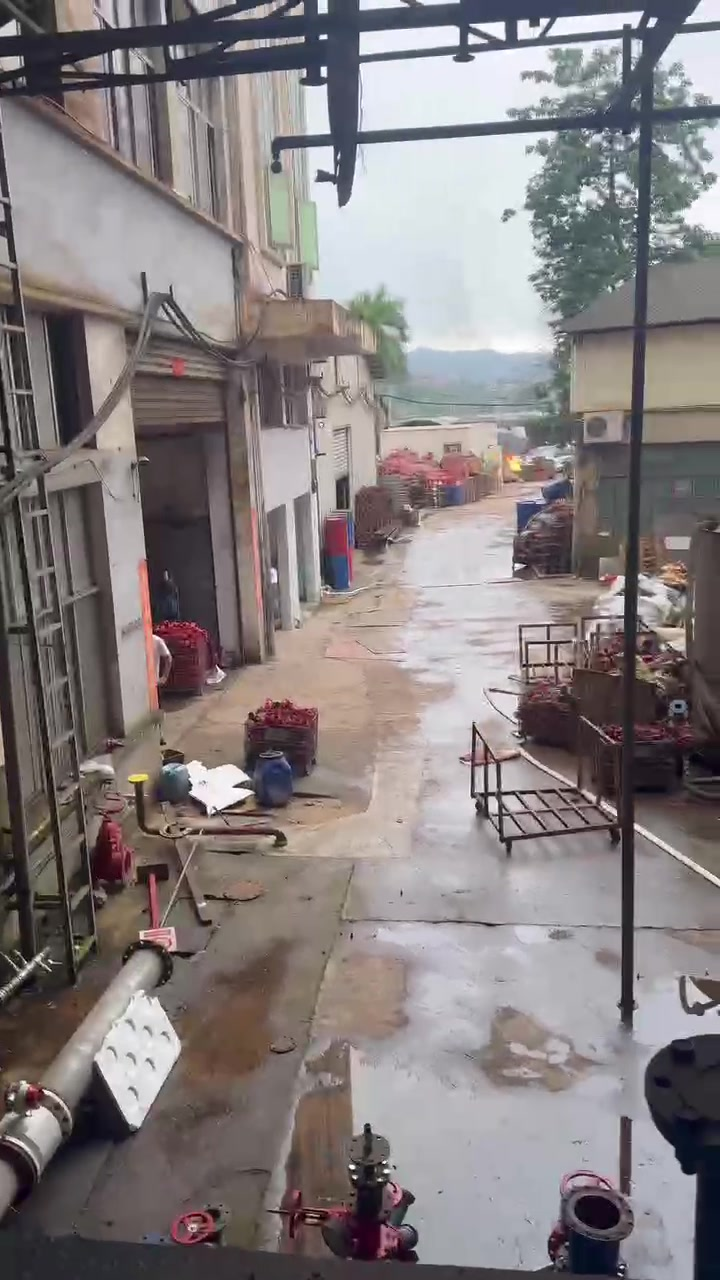fire: (506, 453, 520, 470)
